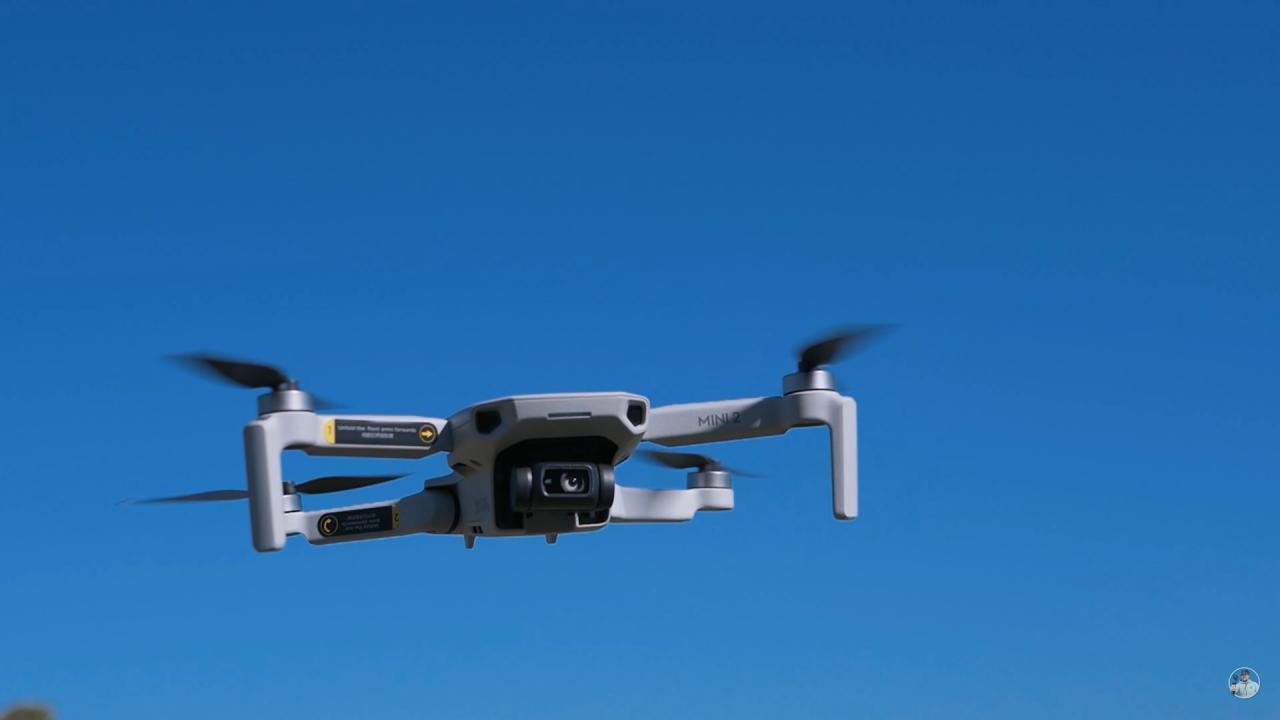Drone: (114, 315, 940, 562)
